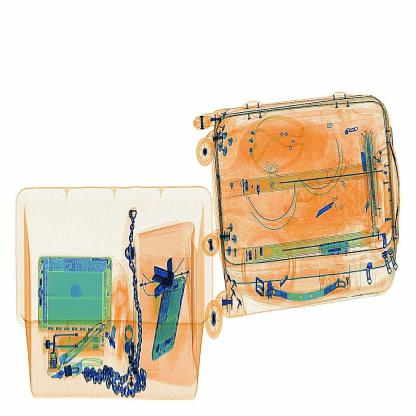pliers: (312, 191, 346, 229)
